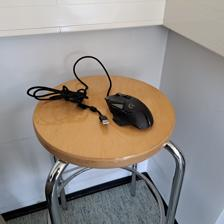mouse: (104, 91, 153, 130)
